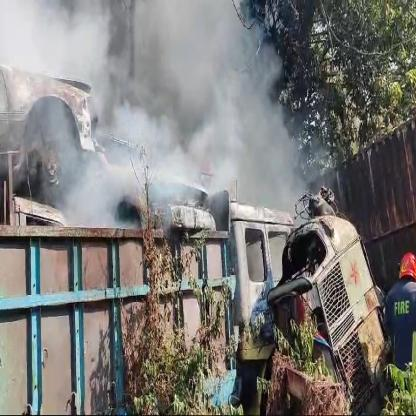Smoke: (0, 0, 341, 265)
